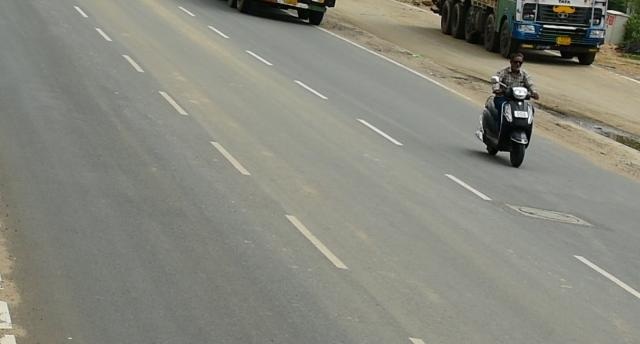Without Helmet: (510, 50, 526, 72)
